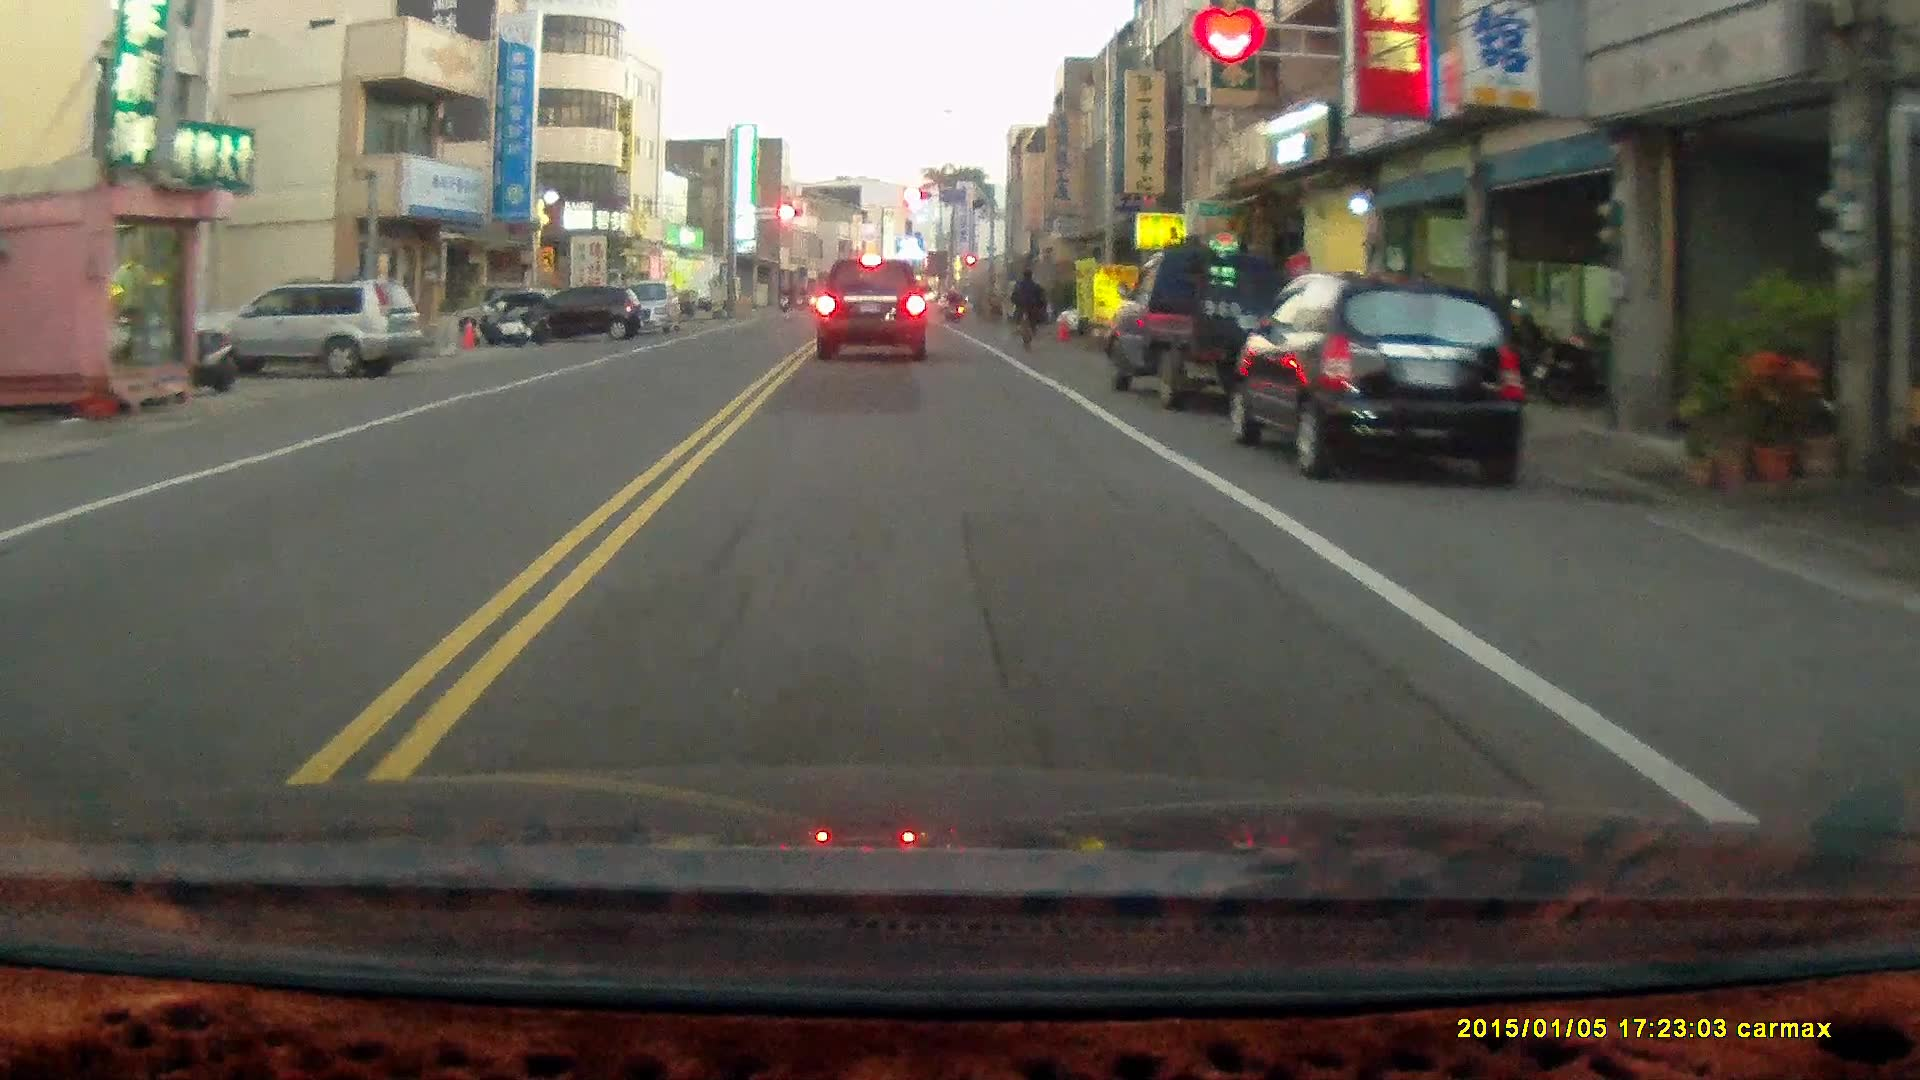rider: (1007, 265, 1044, 349)
vehicle: (1230, 270, 1527, 483), (1102, 244, 1306, 411), (191, 284, 426, 385), (815, 258, 931, 367), (517, 284, 649, 345)
